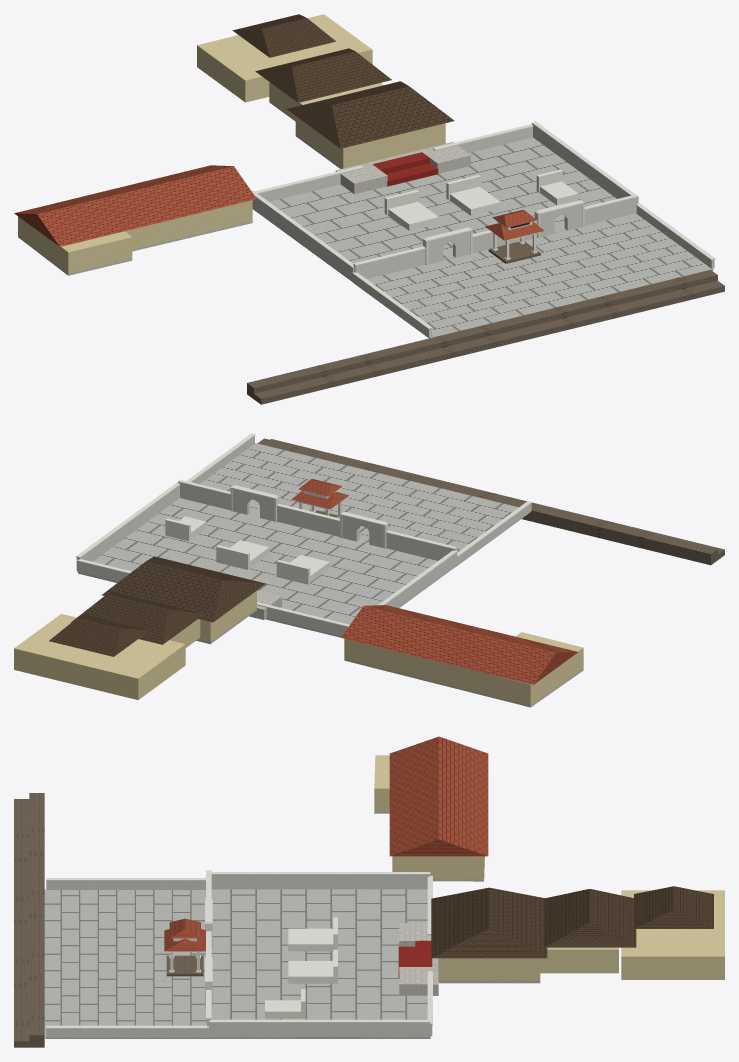
Rendered from thoai-ngoc-hau-lod.glb.
3 renders of one model, top to bottom at view 1: azimuth 30°, elevation 25°; view 2: azimuth 150°, elevation 25°; view 3: azimuth 270°, elevation 25°, orthographic. The views are drawn at different scales.
Visible parts, largest first — view 1: thoai-ngoc-hau-far; view 2: thoai-ngoc-hau-far; view 3: thoai-ngoc-hau-far.
Part boxes in pixels (x1,y1,x2,y2): thoai-ngoc-hau-far: (14,14,724,404); thoai-ngoc-hau-far: (14,433,724,707); thoai-ngoc-hau-far: (14,736,724,1047).
Bounding box in the file's own units: 77.89 × 11.26 × 90.5.
1 material, 1 textured.
